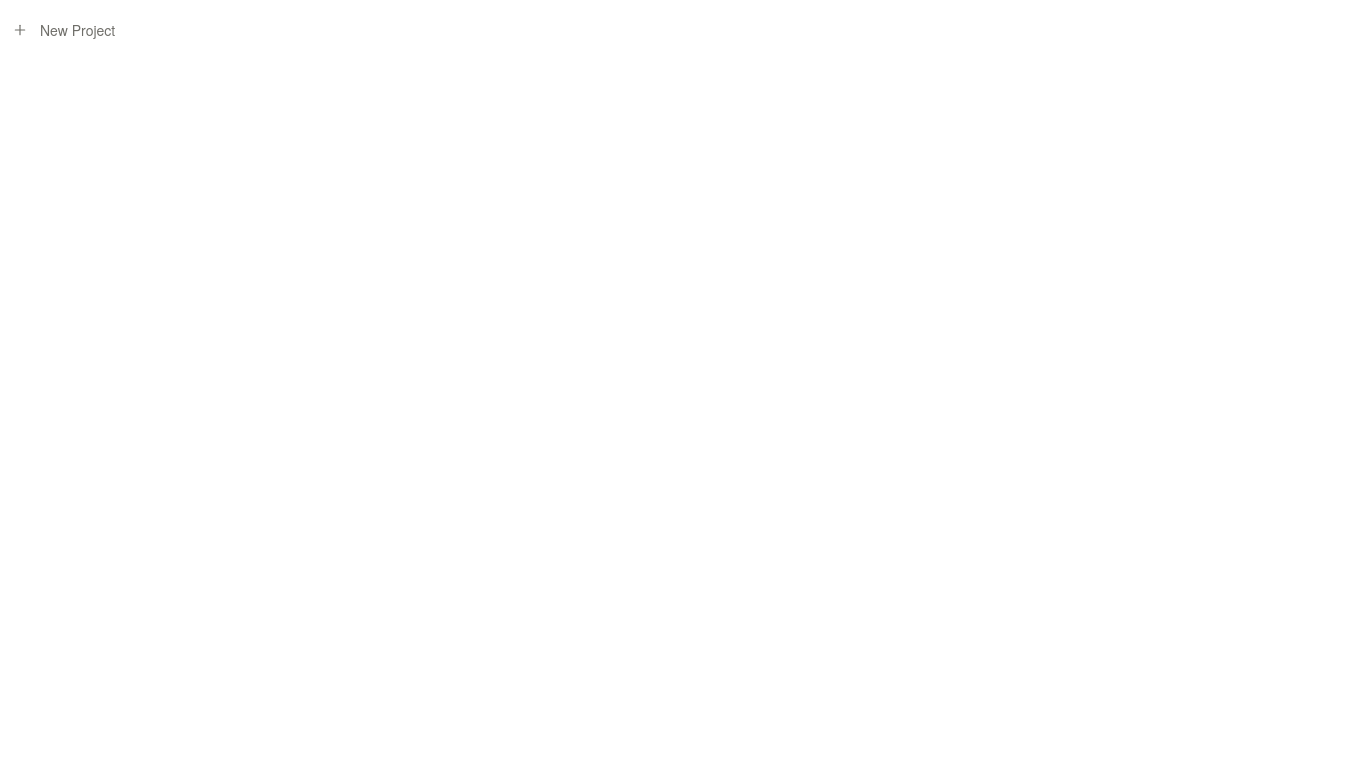
CreateProjectDialog › shows a managed storage message when the user types a name
Click the button "New Project" at (78, 30), box left=0, top=12, right=1365, bottom=48
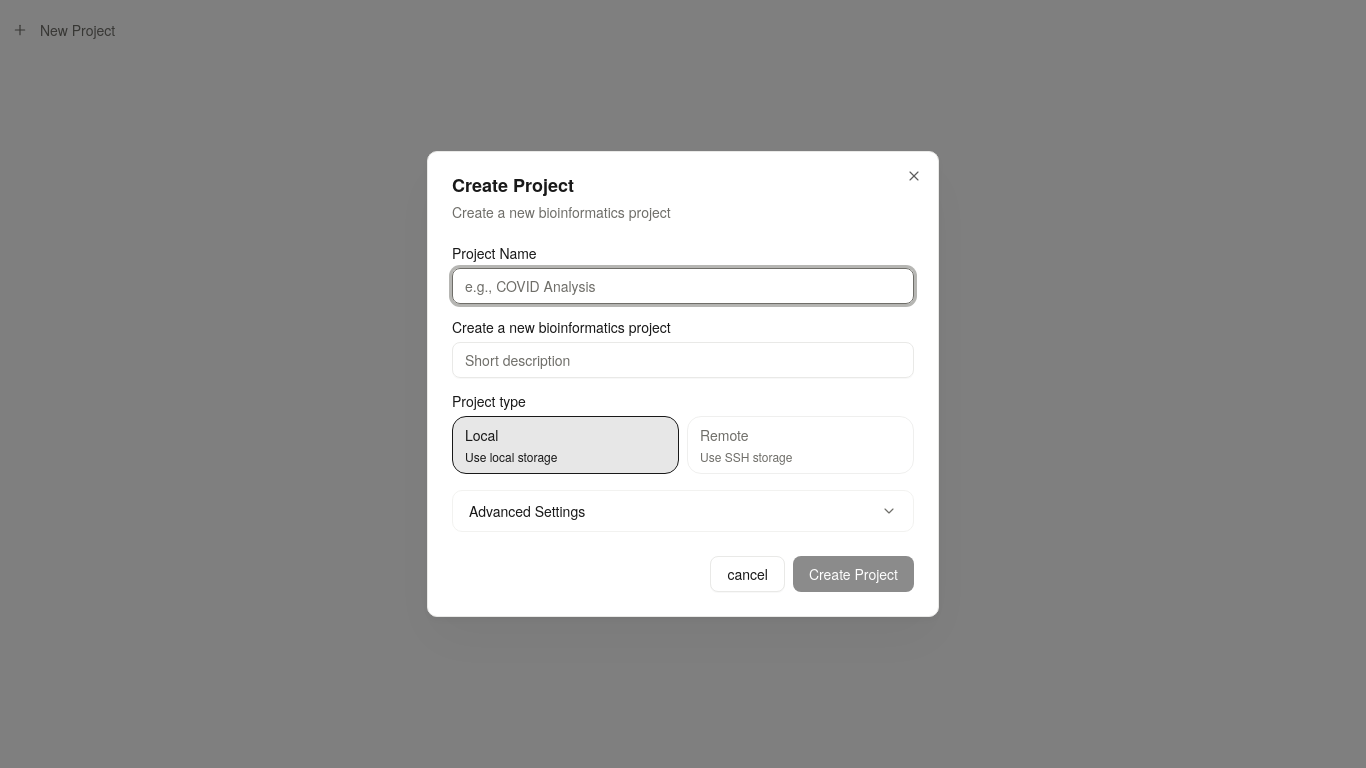
Type "COVID Analysis" into the field labelled "Project Name" at (683, 286), box left=452, top=268, right=914, bottom=304
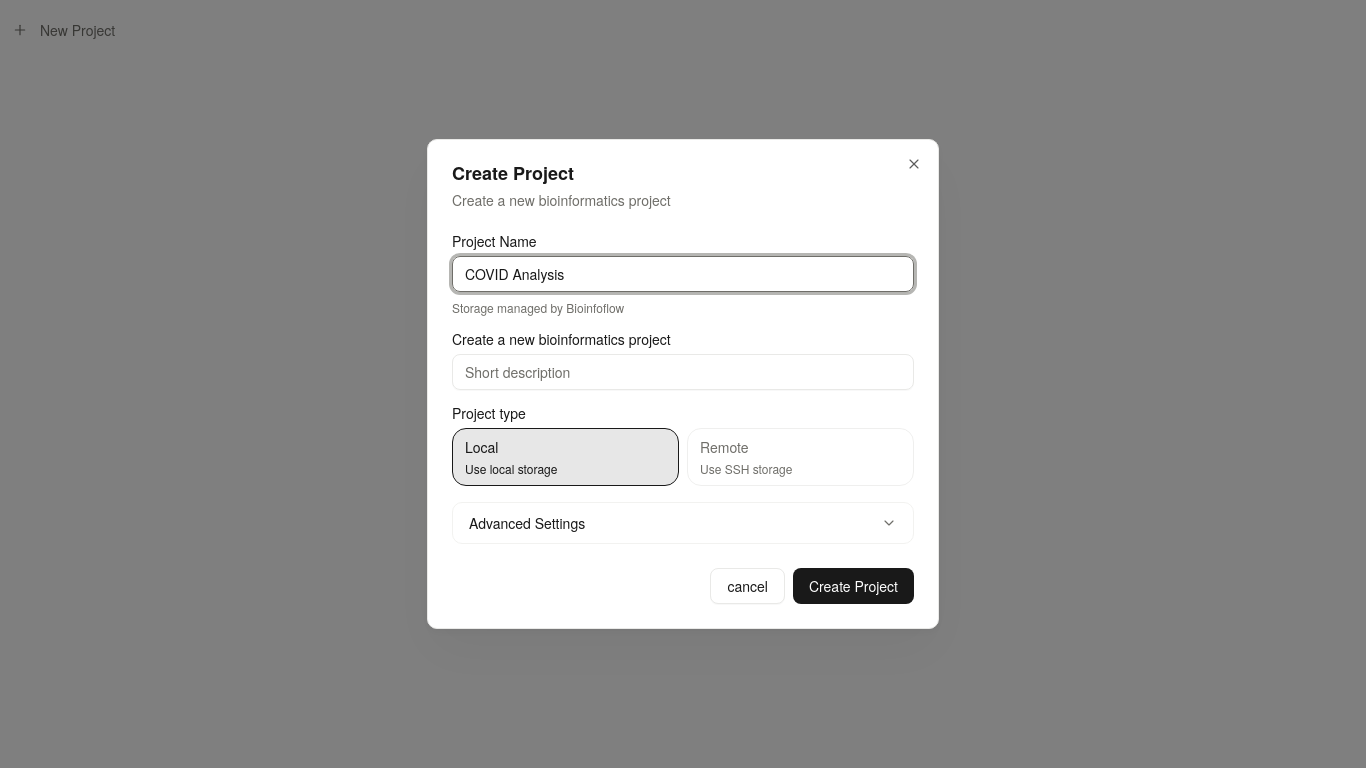
expect the text "Storage managed by Bioinfoflow" is shown: met, box left=452, top=299, right=624, bottom=316
